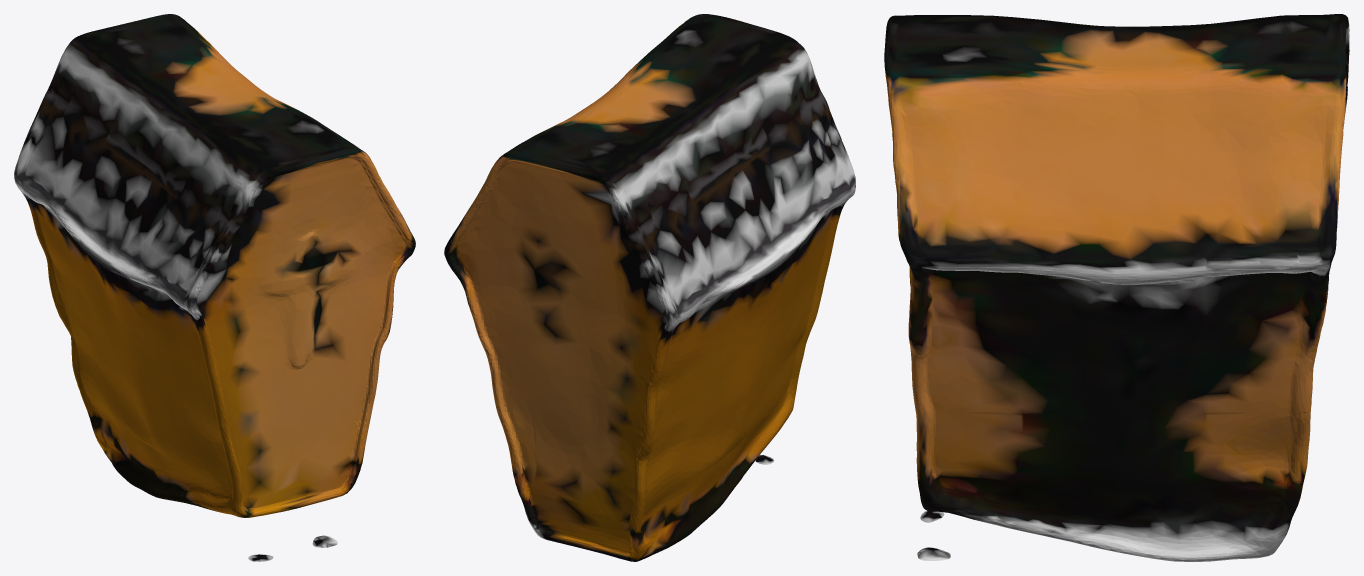
File: coffin.glb
3 renders of one model, left to right at view 1: azimuth 30°, elevation 25°; view 2: azimuth 150°, elevation 25°; view 3: azimuth 270°, elevation 25°, orthographic. The views are drawn at different scales.
Parts seen in each view (by area): view 1: geometry_0; view 2: geometry_0; view 3: geometry_0.
Part boxes in pixels (bbox=[...]): geometry_0: bbox=[14, 14, 415, 561]; geometry_0: bbox=[444, 14, 855, 561]; geometry_0: bbox=[884, 14, 1349, 561].
Size of the model in its own units: 0.5625 by 0.9146 by 0.7736.
